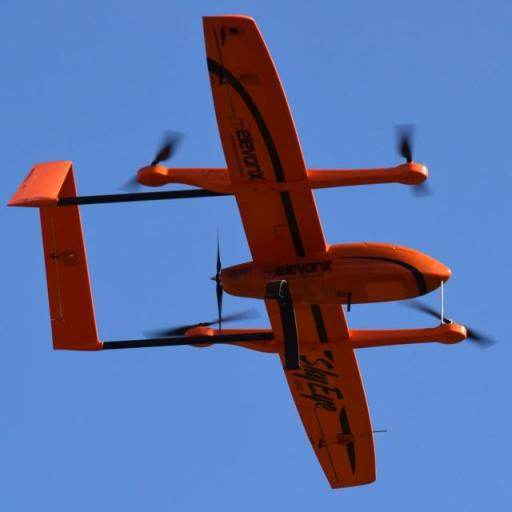uav: (10, 11, 472, 494)
